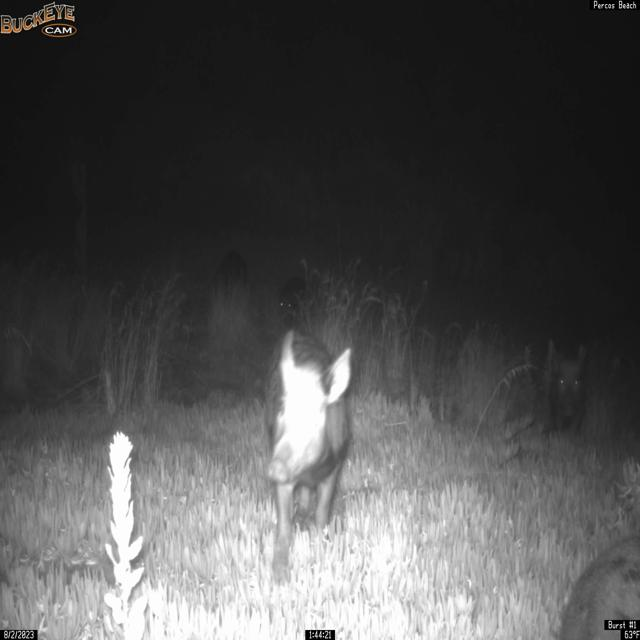pig: (262, 326, 354, 585)
